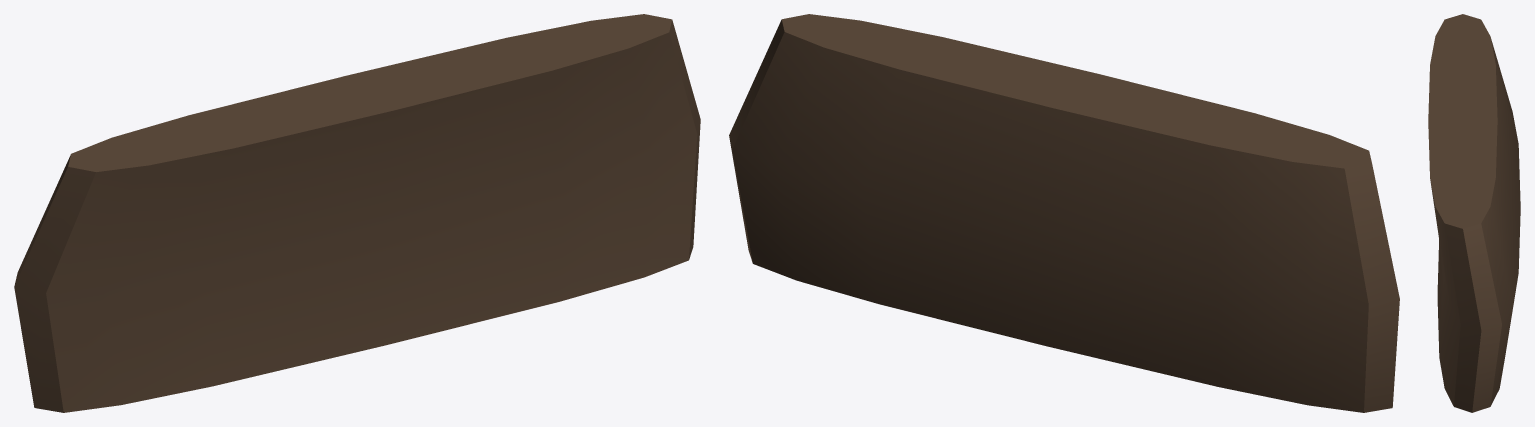
The model's file is backrest.glb.
3 renders of one model, left to right at view 1: azimuth 30°, elevation 25°; view 2: azimuth 150°, elevation 25°; view 3: azimuth 270°, elevation 25°, orthographic. The views are drawn at different scales.
Parts seen in each view (by area): view 1: lod0; view 2: lod0; view 3: lod0.
Part boxes in pixels (x1,y1,x2,y2): lod0: (14,14,700,412); lod0: (729,14,1399,412); lod0: (1428,14,1520,412).
Size of what is drawn, in the model's own units: 0.25 by 0.0832 by 0.04.
